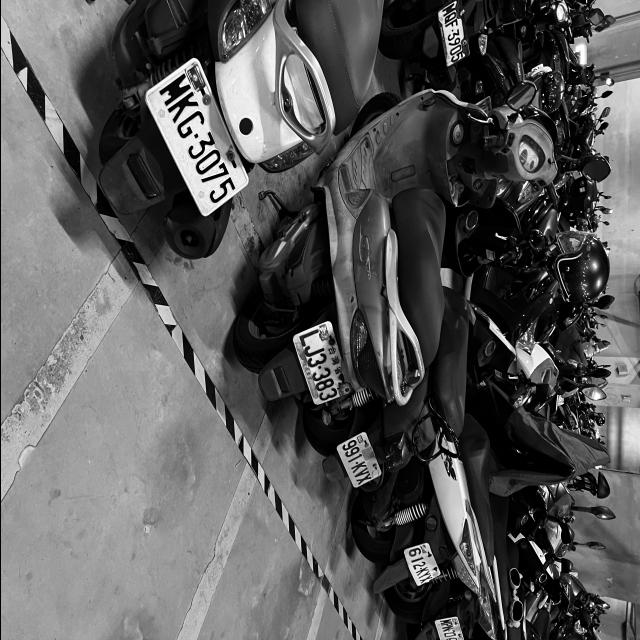-: (191, 131, 199, 139), (316, 365, 321, 371), (354, 460, 358, 465), (418, 567, 421, 570)
0: (191, 146, 221, 177)
1: (347, 453, 362, 464), (410, 555, 424, 564)
2: (411, 560, 426, 571)
3: (185, 129, 216, 163), (305, 352, 327, 370), (318, 386, 338, 403), (310, 367, 331, 383)
5: (206, 176, 237, 208)
6: (407, 547, 422, 559)
7: (200, 161, 230, 190)
8: (314, 376, 334, 393)
9: (343, 445, 360, 459), (340, 439, 357, 452)
G: (174, 108, 205, 140)
J: (302, 341, 325, 360)
K: (166, 89, 200, 124), (350, 461, 366, 474), (414, 566, 429, 577)
L: (297, 328, 321, 349)
M: (155, 73, 192, 109)
V: (353, 467, 369, 479)
X: (355, 473, 371, 486), (418, 574, 432, 584)
Y: (417, 571, 430, 580)
plate: (149, 67, 245, 215), (294, 323, 347, 405), (336, 436, 378, 488), (402, 542, 439, 587)
